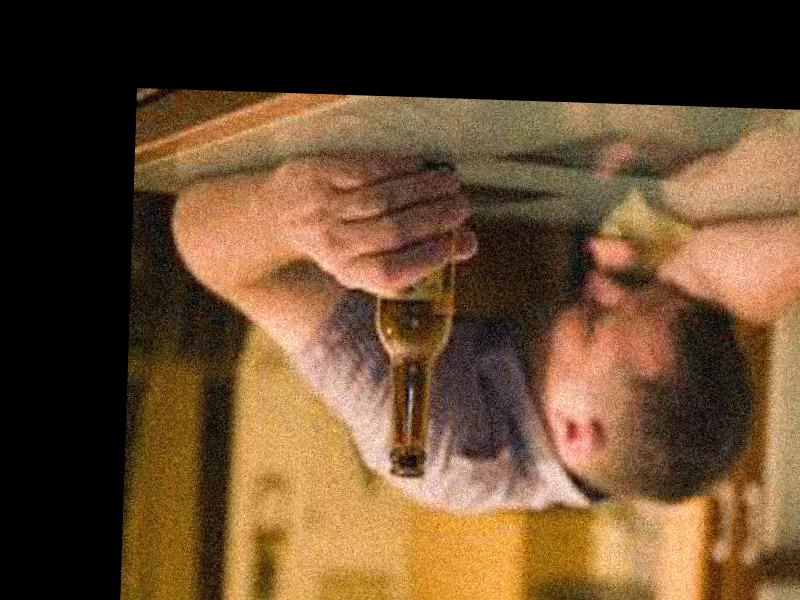Beer: (375, 158, 455, 481)
